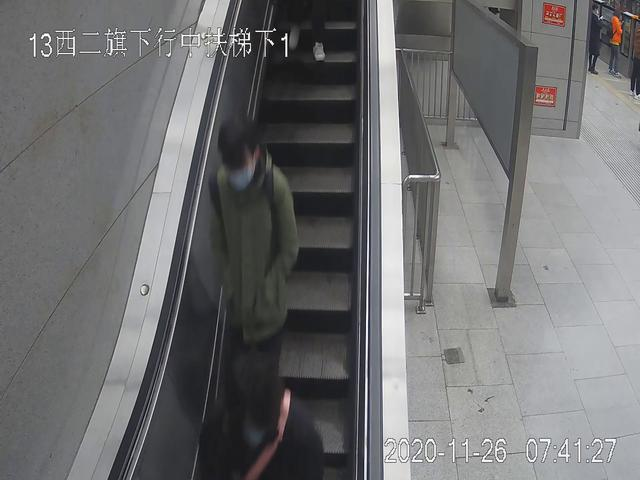person: (209, 119, 298, 417), (588, 3, 604, 75), (607, 13, 625, 76)
